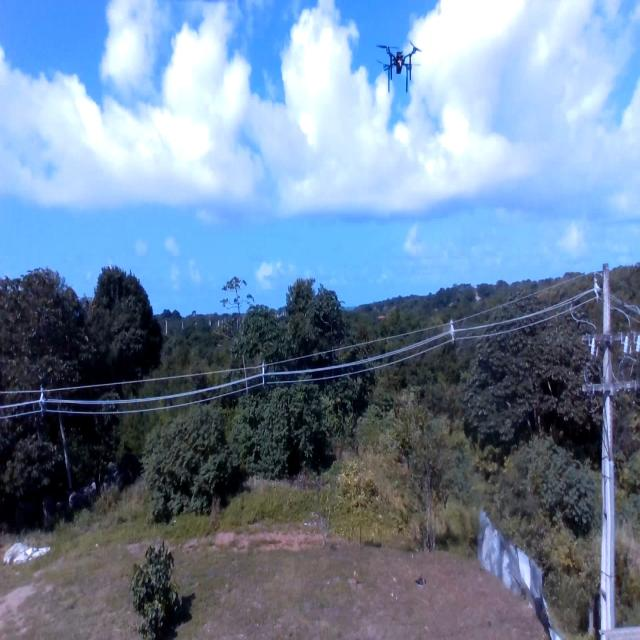-uav-: (374, 25, 424, 105)
